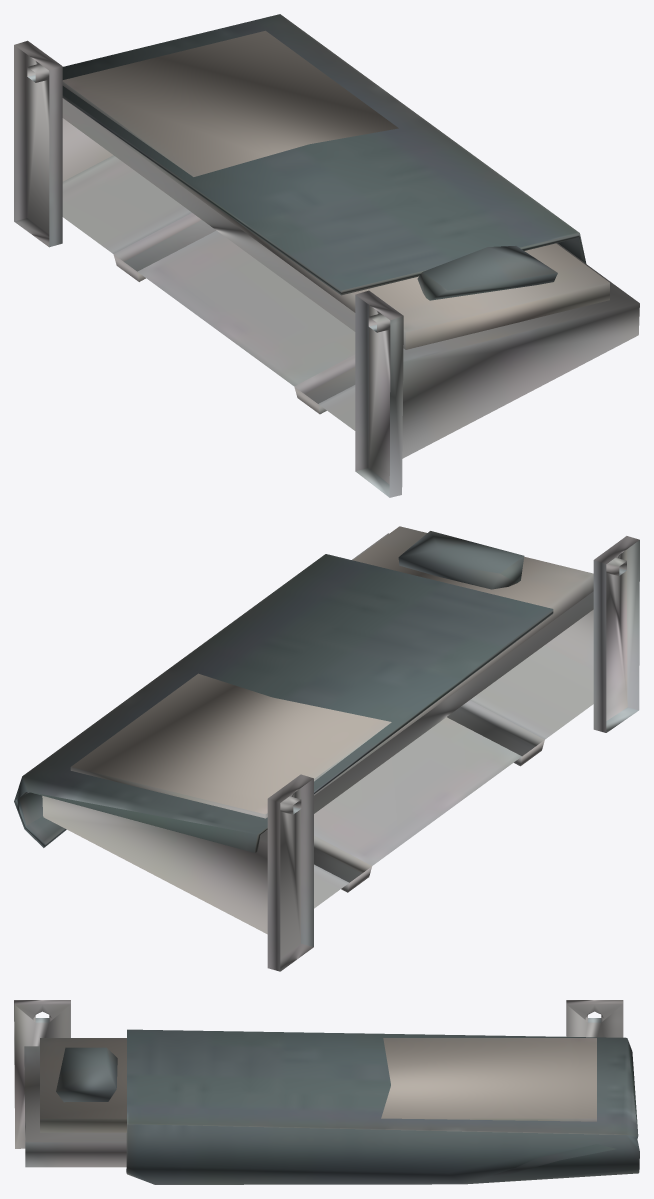
Rendered from prison-bed.lod1.glb.
3 views of the same model, one above another, from view 1: azimuth 30°, elevation 25°; view 2: azimuth 150°, elevation 25°; view 3: azimuth 270°, elevation 25° (orthographic). The views are drawn at different scales.
Parts seen in each view (by area): view 1: defaultMaterial; view 2: defaultMaterial; view 3: defaultMaterial.
Part boxes in pixels (box(x1,y1,x2,y2)): defaultMaterial: box(14, 14, 639, 497); defaultMaterial: box(14, 526, 639, 971); defaultMaterial: box(14, 1000, 639, 1184).
Bounding box in the file's own units: 0.8009 × 0.5104 × 2.
1 material, 1 textured.
